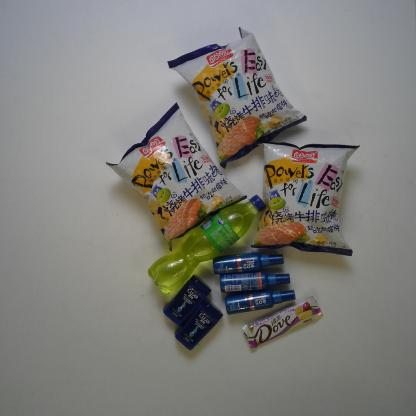Chocolate: (242, 296, 324, 350)
Drink: (148, 194, 266, 295)
Personal Hygiene: (162, 273, 212, 326), (175, 298, 223, 350), (224, 289, 296, 315), (212, 251, 284, 275), (220, 271, 291, 291)
Puffed Food: (106, 102, 247, 254), (167, 27, 306, 169), (251, 139, 360, 256)
